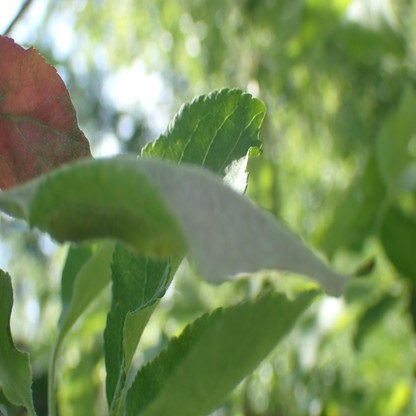powdery_mildew: (8, 96, 92, 184)
